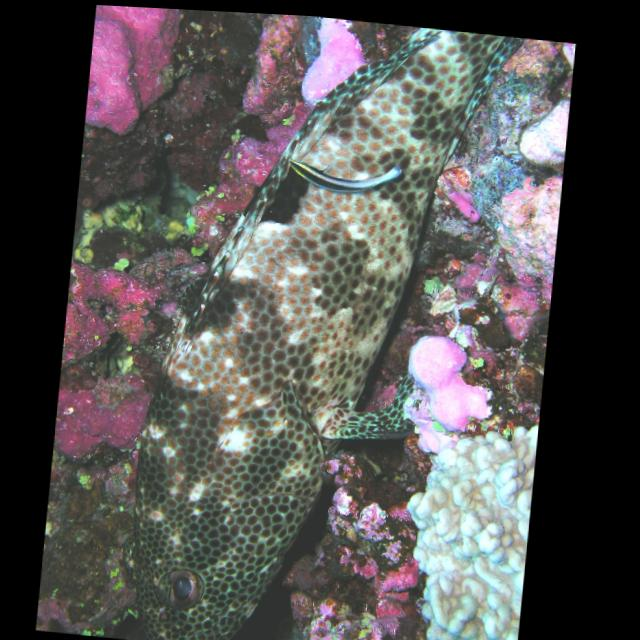Groupers: (116, 7, 534, 640)
